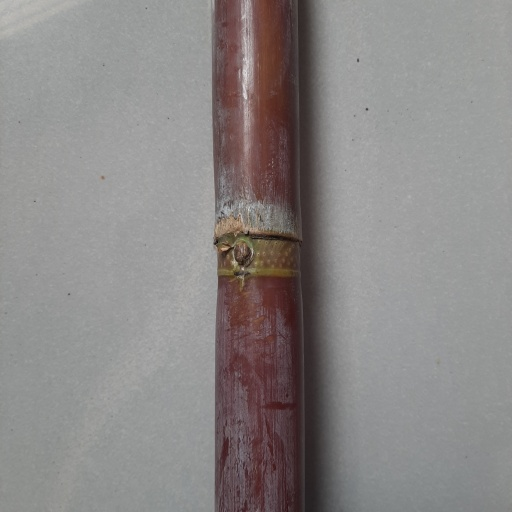Bud: (231, 241, 253, 268)
